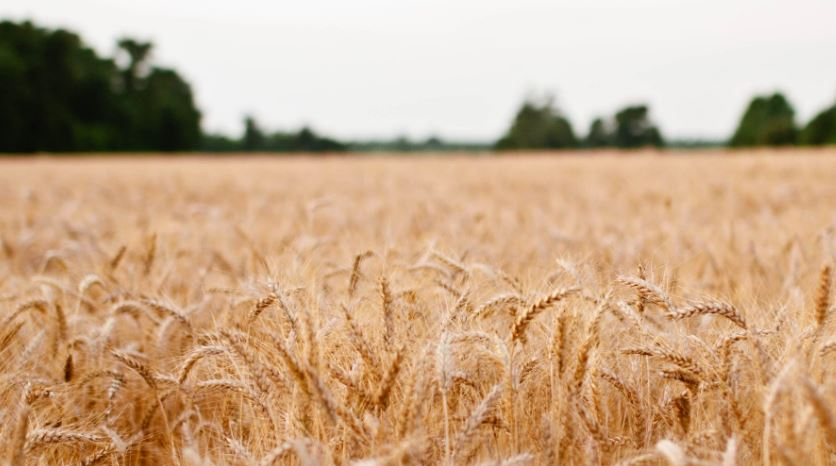Wheat: (90, 202, 745, 444)
